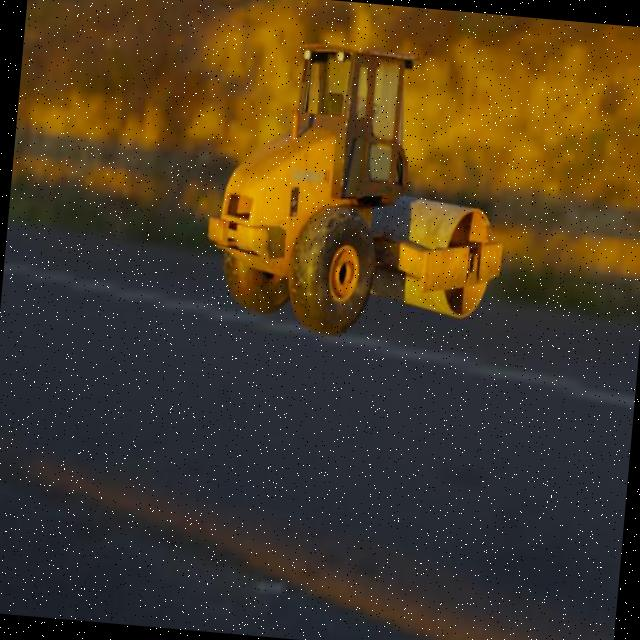Roller: (198, 33, 518, 350)
